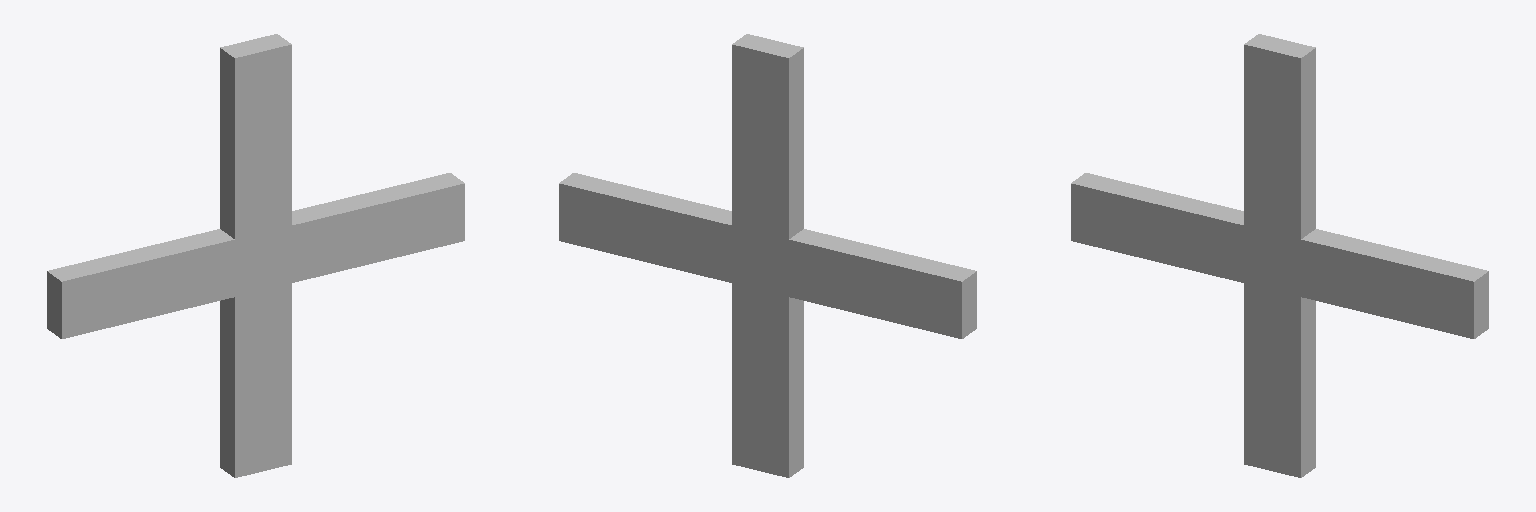
The model's file is plus.obj.
3 renders of one model, left to right at view 1: azimuth 30°, elevation 25°; view 2: azimuth 150°, elevation 25°; view 3: azimuth 330°, elevation 25°, orthographic.
Visible parts, largest first — view 1: Solid1; view 2: Solid1; view 3: Solid1.
Boxes of the visible parts, x1=… form: Solid1: x1=47, y1=34, x2=464, y2=477; Solid1: x1=559, y1=34, x2=976, y2=477; Solid1: x1=1071, y1=34, x2=1488, y2=477.
Size of the model in its own units: 0.7893 by 0.7853 by 0.05.